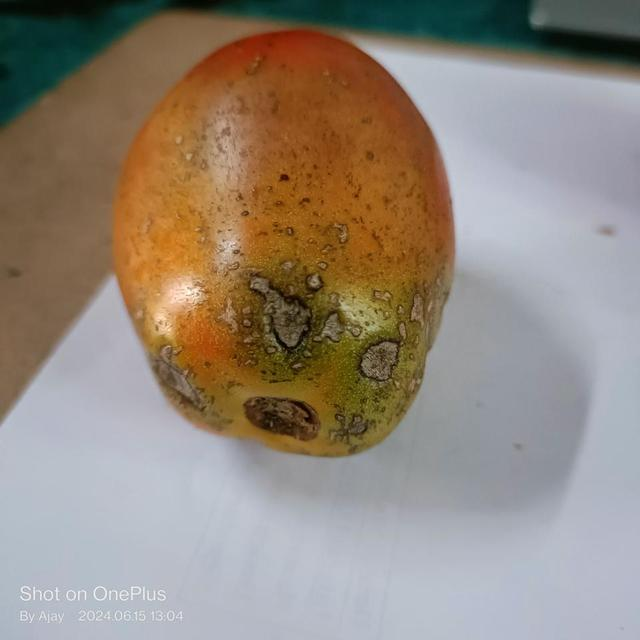Bacterial Spot Fruit: (25, 17, 253, 284)
